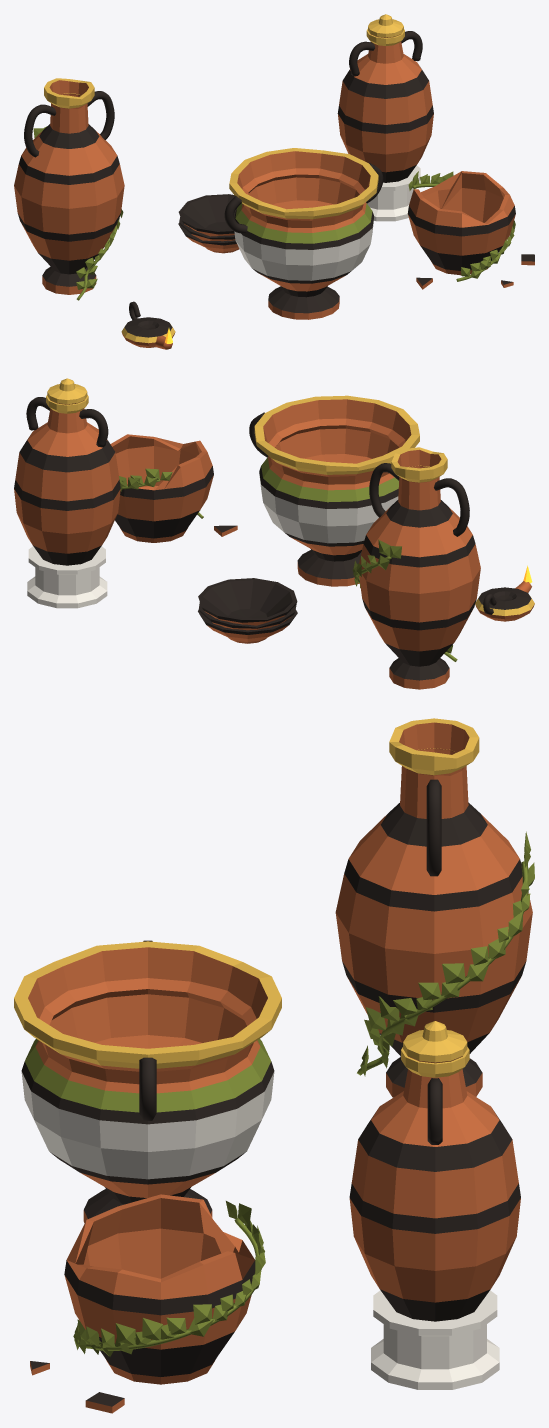
The model's file is classical-pottery-set.glb.
3 views of the same model, one above another, from view 1: azimuth 30°, elevation 25°; view 2: azimuth 150°, elevation 25°; view 3: azimuth 270°, elevation 25° (orthographic). The views are drawn at different scales.
Visible parts, largest first — view 1: Vase_Wide, Amphora_Tall, Amphora_Lidded, Pot_Broken, Bowl_3, Amphora_Lidded_Stand, Oil_Lamp, Pot_Broken_Ivy, Amphora_Tall_Ivy, Lid, Amphora_Tall_Handle_L, Bowl_1 (+3 smaller); view 2: Vase_Wide, Amphora_Tall, Amphora_Lidded, Pot_Broken, Bowl_3, Amphora_Lidded_Stand, Oil_Lamp, Bowl_1, Amphora_Tall_Ivy, Lid, Amphora_Tall_Handle_L, Pot_Broken_Ivy (+4 smaller); view 3: Vase_Wide, Amphora_Tall, Amphora_Lidded, Pot_Broken, Amphora_Lidded_Stand, Amphora_Tall_Ivy, Pot_Broken_Ivy, Lid, Amphora_Tall_Handle_R, Vase_Wide_Handle_R, Amphora_Lidded_Handle_R.
Part boxes in pixels (x1,y1,x2,y2): Vase_Wide: (229, 148, 378, 319); Amphora_Tall: (14, 78, 124, 294); Amphora_Lidded: (337, 29, 433, 182); Pot_Broken: (407, 171, 534, 289); Bowl_3: (178, 194, 236, 236); Amphora_Lidded_Stand: (367, 165, 420, 221); Oil_Lamp: (121, 317, 175, 347); Pot_Broken_Ivy: (408, 171, 515, 281); Amphora_Tall_Ivy: (33, 126, 123, 300); Lid: (368, 14, 403, 37); Amphora_Tall_Handle_L: (24, 104, 56, 157); Bowl_1: (178, 223, 239, 253); Vase_Wide: (254, 395, 419, 586); Amphora_Tall: (359, 447, 480, 689); Amphora_Lidded: (14, 394, 120, 565); Pot_Broken: (110, 434, 237, 542); Bowl_3: (198, 578, 297, 625); Amphora_Lidded_Stand: (27, 546, 107, 608); Oil_Lamp: (475, 587, 534, 621); Bowl_1: (198, 609, 297, 643); Amphora_Tall_Ivy: (352, 539, 457, 661); Lid: (47, 378, 87, 404); Amphora_Tall_Handle_L: (434, 478, 469, 536); Pot_Broken_Ivy: (119, 468, 203, 518); Vase_Wide: (14, 941, 281, 1223); Amphora_Tall: (335, 718, 532, 1097); Amphora_Lidded: (349, 1047, 520, 1321); Pot_Broken: (30, 1194, 255, 1413); Amphora_Lidded_Stand: (371, 1290, 499, 1389); Amphora_Tall_Ivy: (357, 831, 534, 1076); Pot_Broken_Ivy: (73, 1201, 265, 1356); Lid: (403, 1021, 467, 1063); Amphora_Tall_Handle_R: (426, 779, 441, 876); Vase_Wide_Handle_R: (139, 1057, 156, 1120); Amphora_Lidded_Handle_R: (427, 1078, 442, 1144).
Size of the model in its own units: 8.12 by 3.6 by 4.86.
